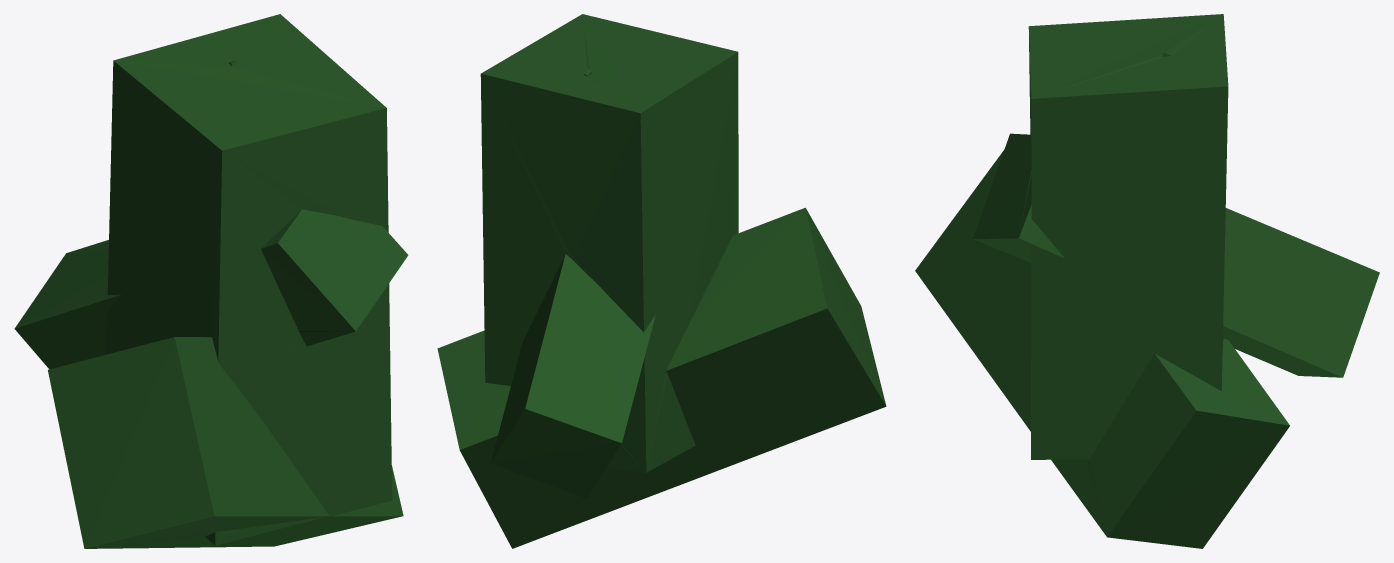
3 renders of one model, left to right at view 1: azimuth 30°, elevation 25°; view 2: azimuth 150°, elevation 25°; view 3: azimuth 270°, elevation 25°, orthographic. The views are drawn at different scales.
Parts seen in each view (by area): view 1: 175_Cube.725; view 2: 175_Cube.725; view 3: 175_Cube.725.
Boxes of the visible parts, x1,y1,x2,y2 form: 175_Cube.725: [14, 14, 408, 548]; 175_Cube.725: [437, 14, 886, 548]; 175_Cube.725: [915, 14, 1379, 548].
Size of the model in its own units: 12.33 by 16.01 by 14.32.
